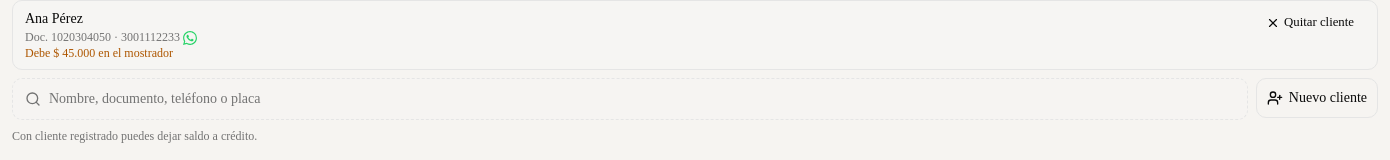
Scenario: SelectorCliente › Quitar cliente vuelve a Consumidor final
Click the button "Quitar cliente": (1310, 23) [1255,9,1365,37]
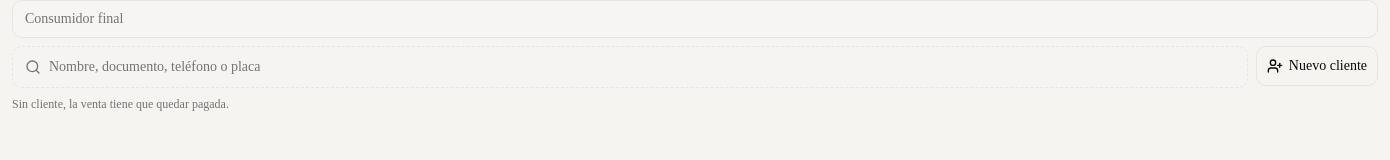
Expected: the element with test id "cliente-actual" reads "Consumidor final", [25,11,123,26]
